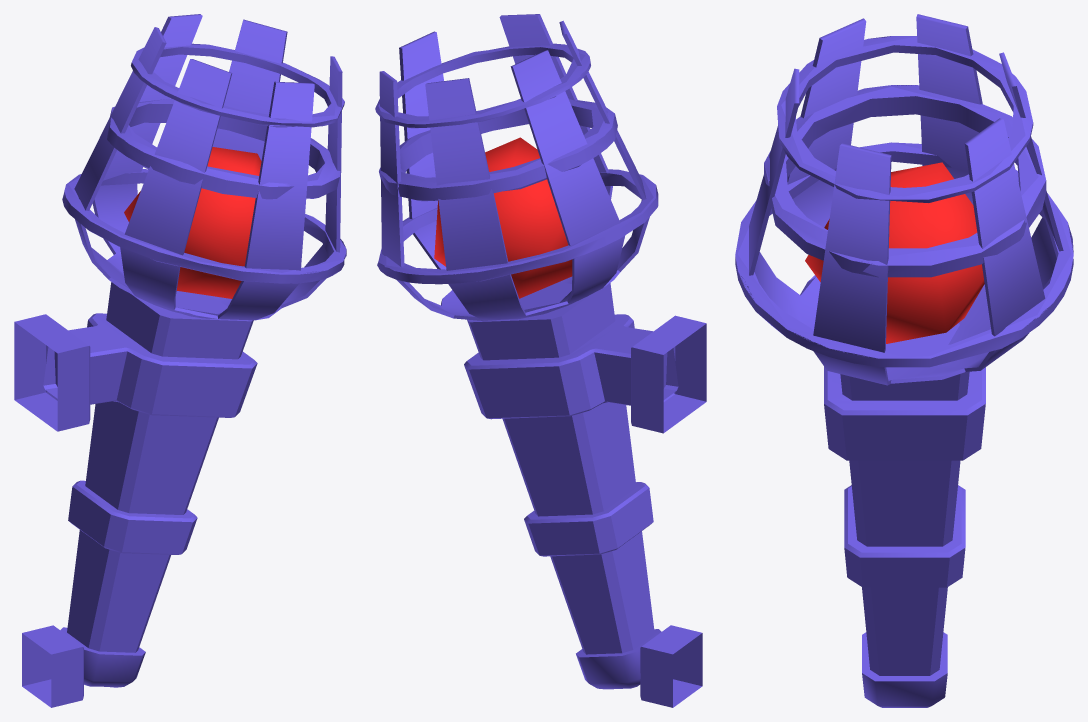
Rendered from SM_tourch.fbx.
3 renders of one model, left to right at view 1: azimuth 30°, elevation 25°; view 2: azimuth 150°, elevation 25°; view 3: azimuth 270°, elevation 25°, orthographic. The views are drawn at different scales.
Visible parts, largest first — view 1: SM_tourch; view 2: SM_tourch; view 3: SM_tourch.
Part boxes in pixels (x1,y1,x2,y2): SM_tourch: (14,14,346,707); SM_tourch: (375,14,706,707); SM_tourch: (735,14,1073,707).
Size of the model in its own units: 86.44 by 174 by 73.77.
